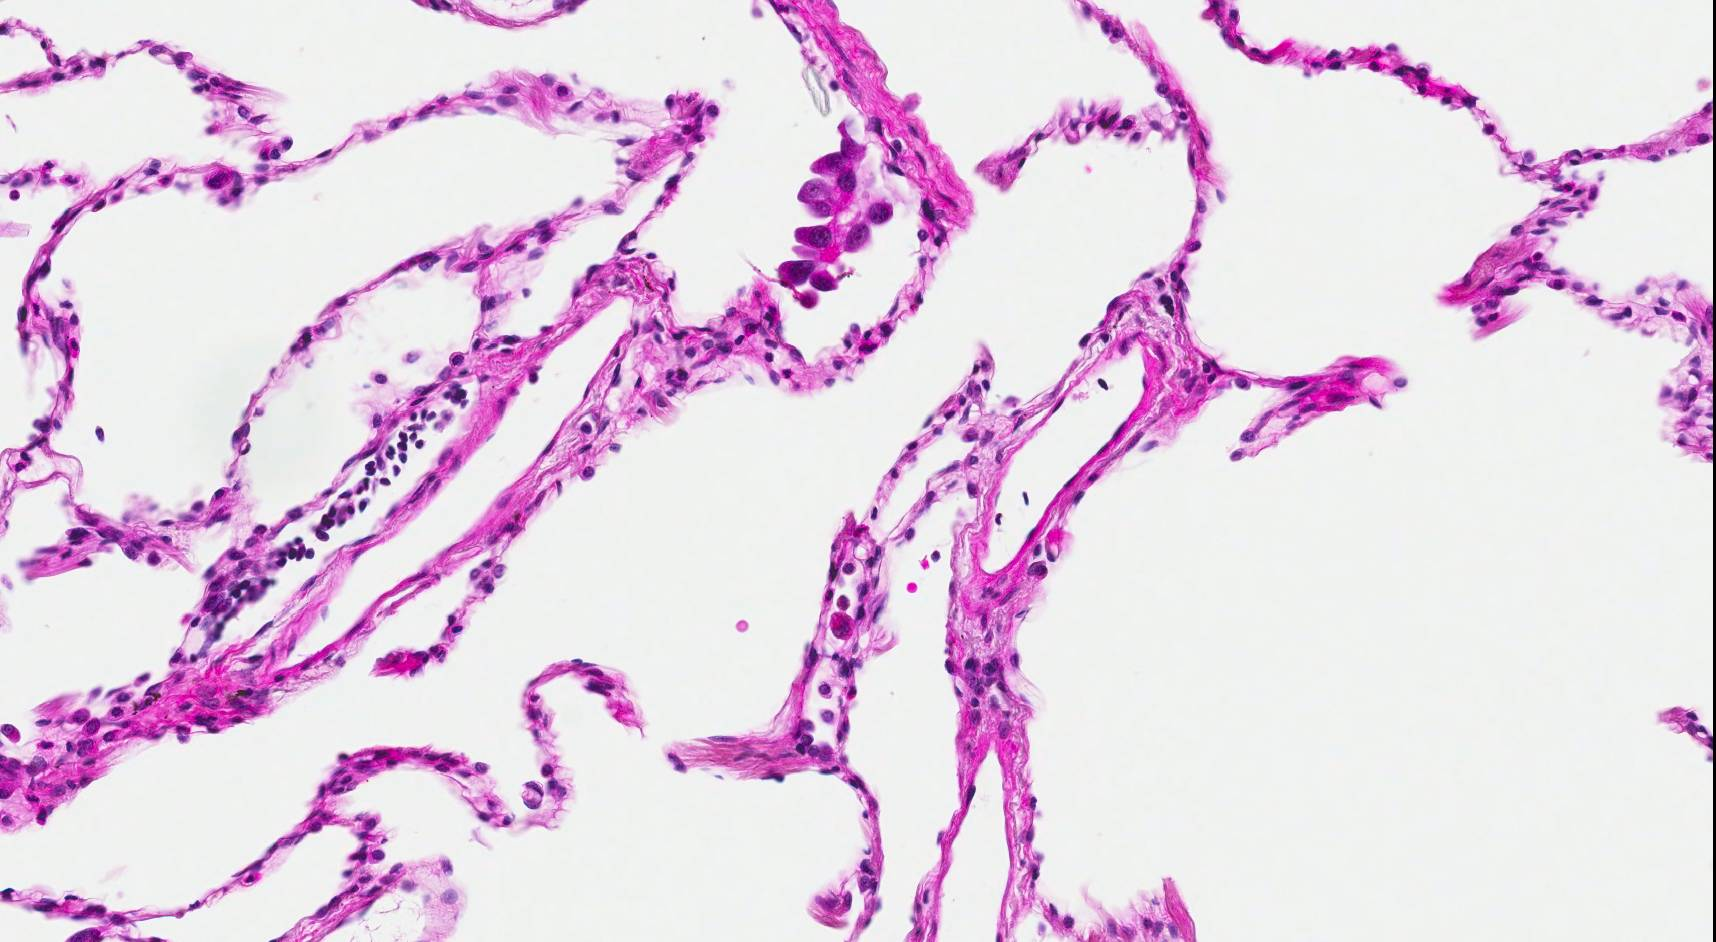stas: (776, 115, 900, 311)
